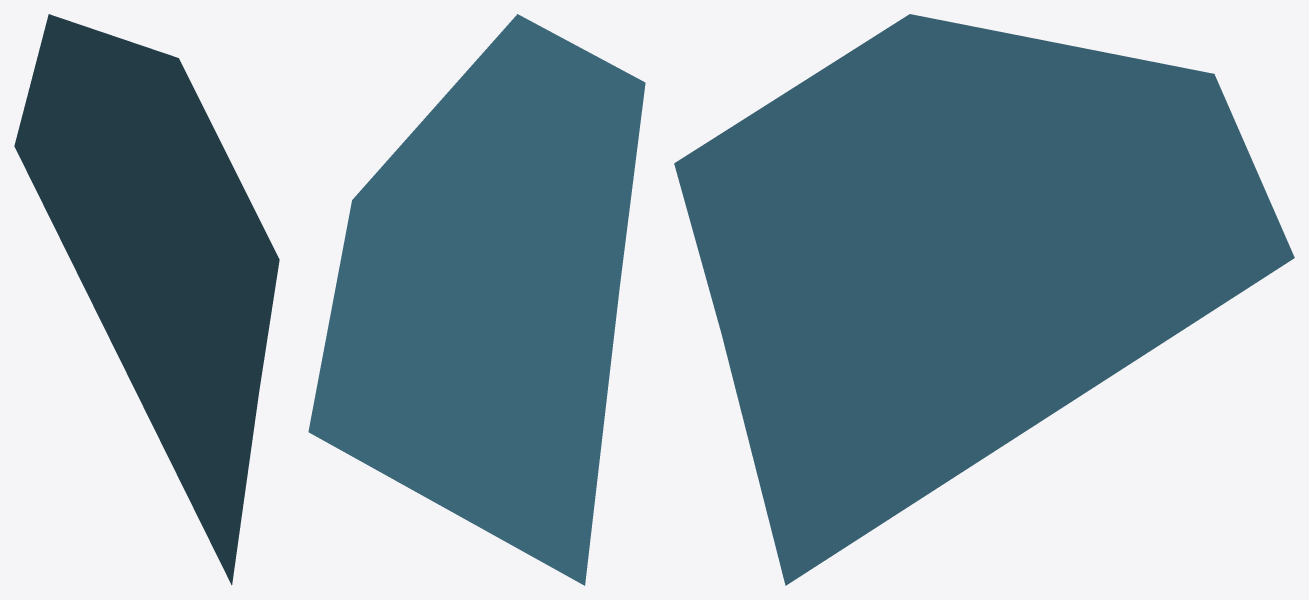
Rendered from NexusC_Cloth_23.fbx.
The picture shows the model from 3 angles, left to right: view 1: azimuth 30°, elevation 25°; view 2: azimuth 150°, elevation 25°; view 3: azimuth 270°, elevation 25°; orthographic projection. The views are drawn at different scales.
Parts seen in each view (by area): view 1: polySurface55; view 2: polySurface55; view 3: polySurface55.
Boxes of the visible parts, x1=… form: polySurface55: x1=14, y1=14, x2=279, y2=585; polySurface55: x1=308, y1=14, x2=645, y2=585; polySurface55: x1=674, y1=14, x2=1294, y2=585.
Bounding box in the file's own units: 6.11e-05 × 38.62 × 37.99.
